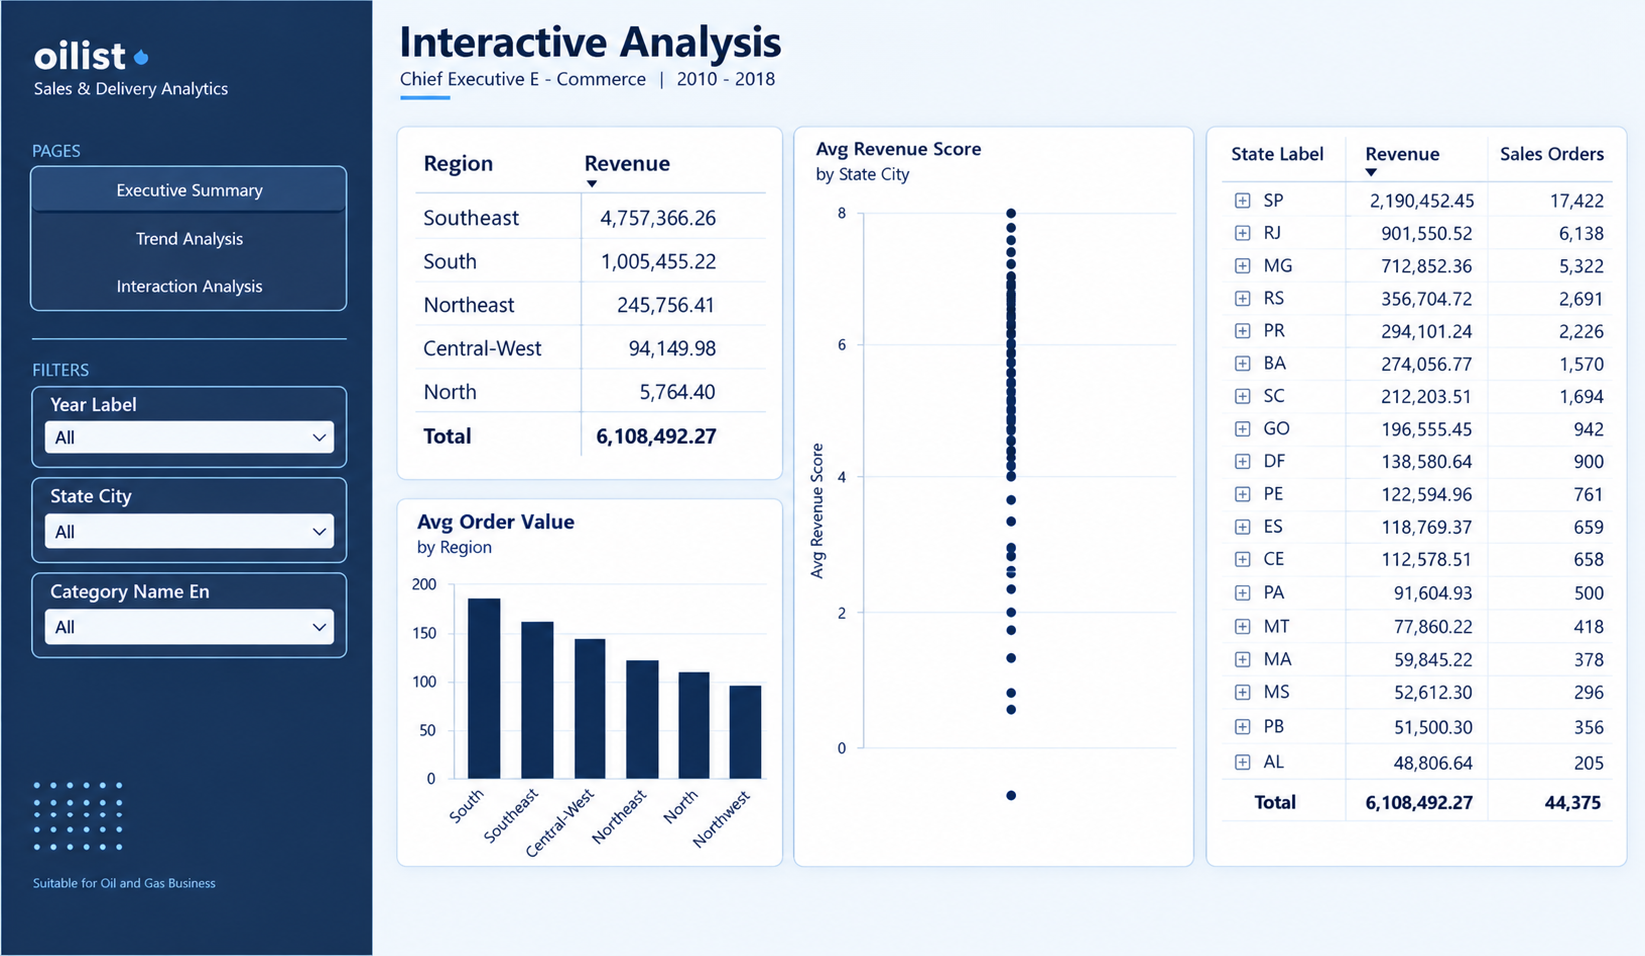

This screenshot's page, from the dashboard's own definition file:
{"tool":"powerbi","page":{"name":"Interactive Analysis","canvas":[1920,1080],"ordinal":2},"visuals":[{"type":"pageNavigator","box":[35,190,370.8,158.3],"z":0},{"type":"slicer","fields":{"Values":["Customer Location.Hierarchy.State City"]},"box":[50,552,340,90],"z":1000},{"type":"slicer","fields":{"Values":["Product.Hierarchy.Category Name En"]},"box":[50,654,340,86],"z":2000},{"type":"slicer","fields":{"Values":["Date.Hierarchy.Year Label"]},"box":[50,452,340,88],"z":3000},{"type":"pivotTable","fields":{"Rows":["Seller Location.Region"],"Values":["Fact Sales.Revenue"]},"box":[484,172,432,394],"z":4000},{"type":"clusteredColumnChart","fields":{"Category":["Customer Location.Region"],"Y":["Fact Order Fulfilment.Avg Order Value"]},"box":[484,598,432,434],"z":5000},{"type":"scatterChart","fields":{"Category":["Customer Location.State City"],"Y":["Measures.Avg Review Score"]},"box":[946,172,446,860],"z":6000},{"type":"pivotTable","fields":{"Rows":["Customer Location.Hierarchy.State Label","Customer Location.Hierarchy.State City","Customer Location.Hierarchy.Location Key"],"Values":["Fact Sales.Revenue","Fact Order Fulfilment.Sales Orders","Measures.Avg Delivery Days","Measures.Avg Delivery Days","Fact Order Fulfilment.Late Delivery %","Measures.Avg Review Score"]},"box":[1428,172,446,860],"z":7000}]}

Visuals, with their boxes on the page's 1920x1080 design canvas (x1, y1, x2, y2). These are canvas units, not pixel positions in the 1645x956 screenshot, which may show the page scaled, cropped or inside an application window:
pageNavigator: x1=35 y1=190 x2=406 y2=348
slicer - Customer Location.Hierarchy.State City: x1=50 y1=552 x2=390 y2=642
slicer - Product.Hierarchy.Category Name En: x1=50 y1=654 x2=390 y2=740
slicer - Date.Hierarchy.Year Label: x1=50 y1=452 x2=390 y2=540
pivotTable - Seller Location.Region x Fact Sales.Revenue: x1=484 y1=172 x2=916 y2=566
clusteredColumnChart - Customer Location.Region x Fact Order Fulfilment.Avg Order Value: x1=484 y1=598 x2=916 y2=1032
scatterChart - Customer Location.State City x Measures.Avg Review Score: x1=946 y1=172 x2=1392 y2=1032
pivotTable - Customer Location.Hierarchy.State Label x Customer Location.Hierarchy.State City: x1=1428 y1=172 x2=1874 y2=1032
